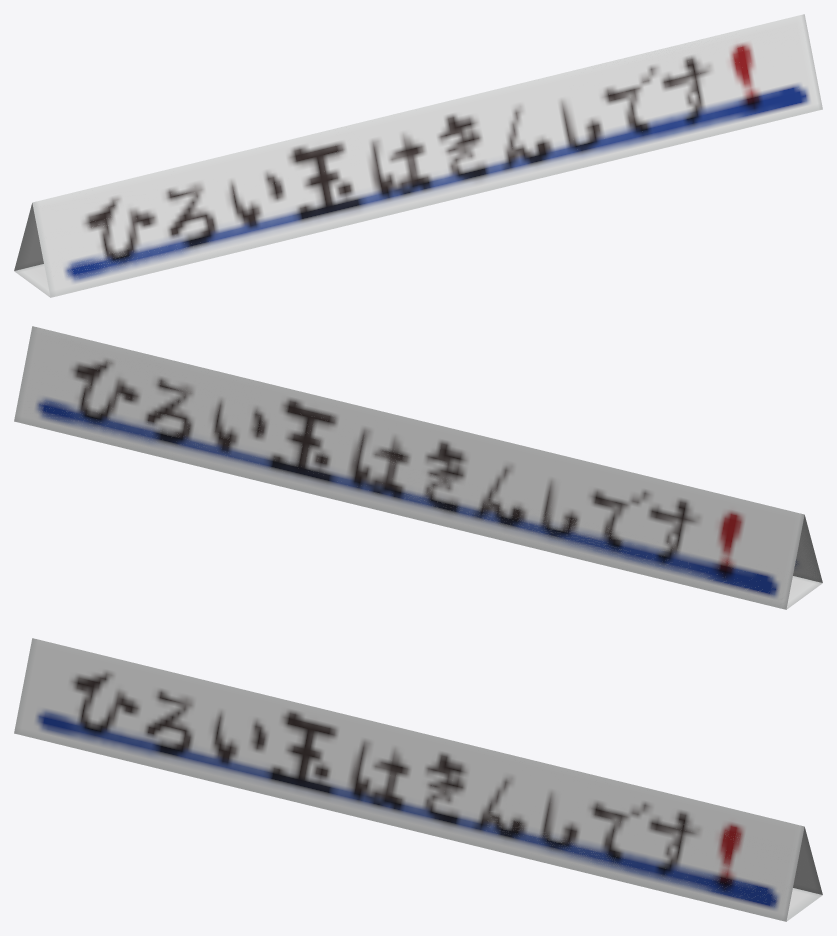
File: jsf_Flyer_Shooting_07.fbx
3 views of the same model, one above another, from view 1: azimuth 30°, elevation 25°; view 2: azimuth 150°, elevation 25°; view 3: azimuth 330°, elevation 25° (orthographic).
Visible parts, largest first — view 1: jsf_Flyer_Shooting_07; view 2: jsf_Flyer_Shooting_07; view 3: jsf_Flyer_Shooting_07.
Boxes of the visible parts, bbox=[...] form: jsf_Flyer_Shooting_07: bbox=[14, 14, 822, 297]; jsf_Flyer_Shooting_07: bbox=[14, 326, 822, 609]; jsf_Flyer_Shooting_07: bbox=[14, 638, 822, 921].
Size of the model in its own units: 54 by 5.48 by 4.43.
